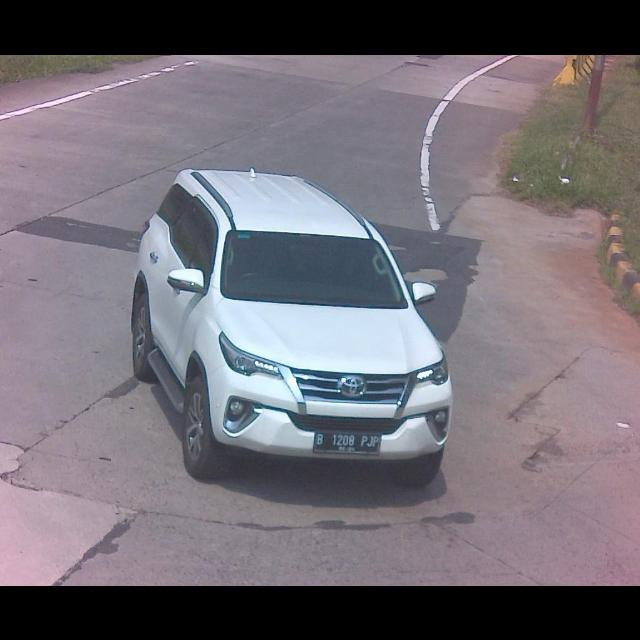plate: (312, 429, 383, 455)
